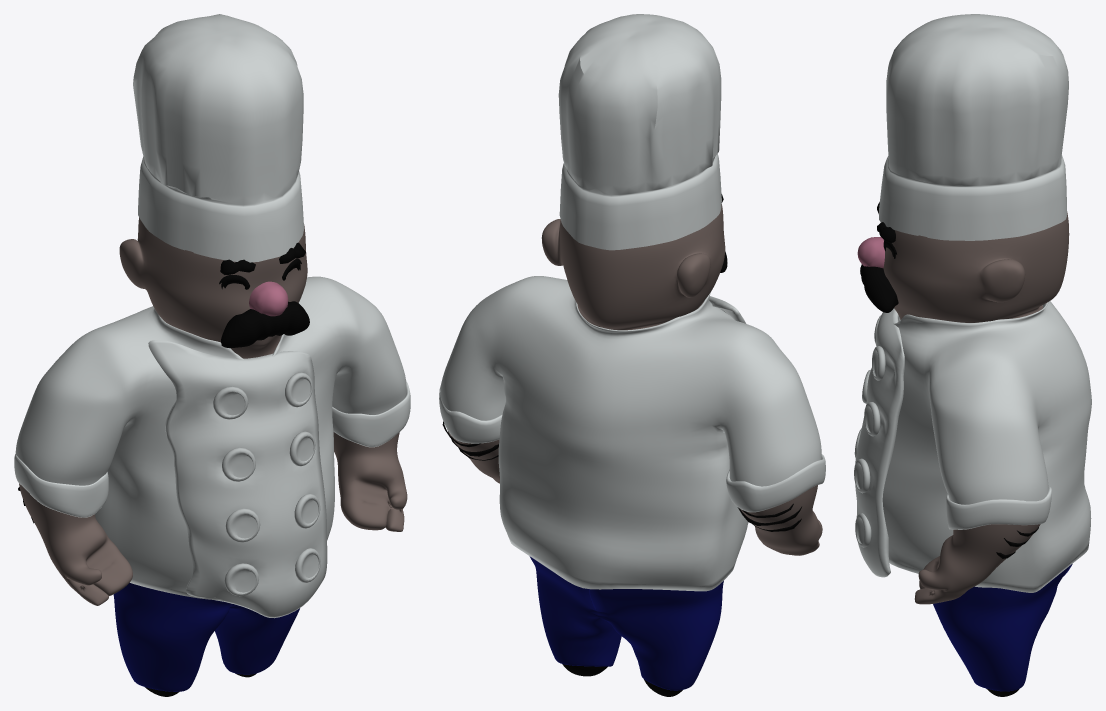
Rendered from Char.Model.fbx.
3 views of the same model, side by side, from view 1: azimuth 30°, elevation 25°; view 2: azimuth 150°, elevation 25°; view 3: azimuth 270°, elevation 25° (orthographic). The views are drawn at different scales.
Parts seen in each view (by area): view 1: Hi Poly; view 2: Hi Poly; view 3: Hi Poly.
Boxes of the visible parts, left/top/right/bottom form: Hi Poly: left=14, top=14, right=410, bottom=696; Hi Poly: left=439, top=14, right=825, bottom=696; Hi Poly: left=854, top=14, right=1091, bottom=696.
Size of the model in its own units: 280 by 469 by 156.
